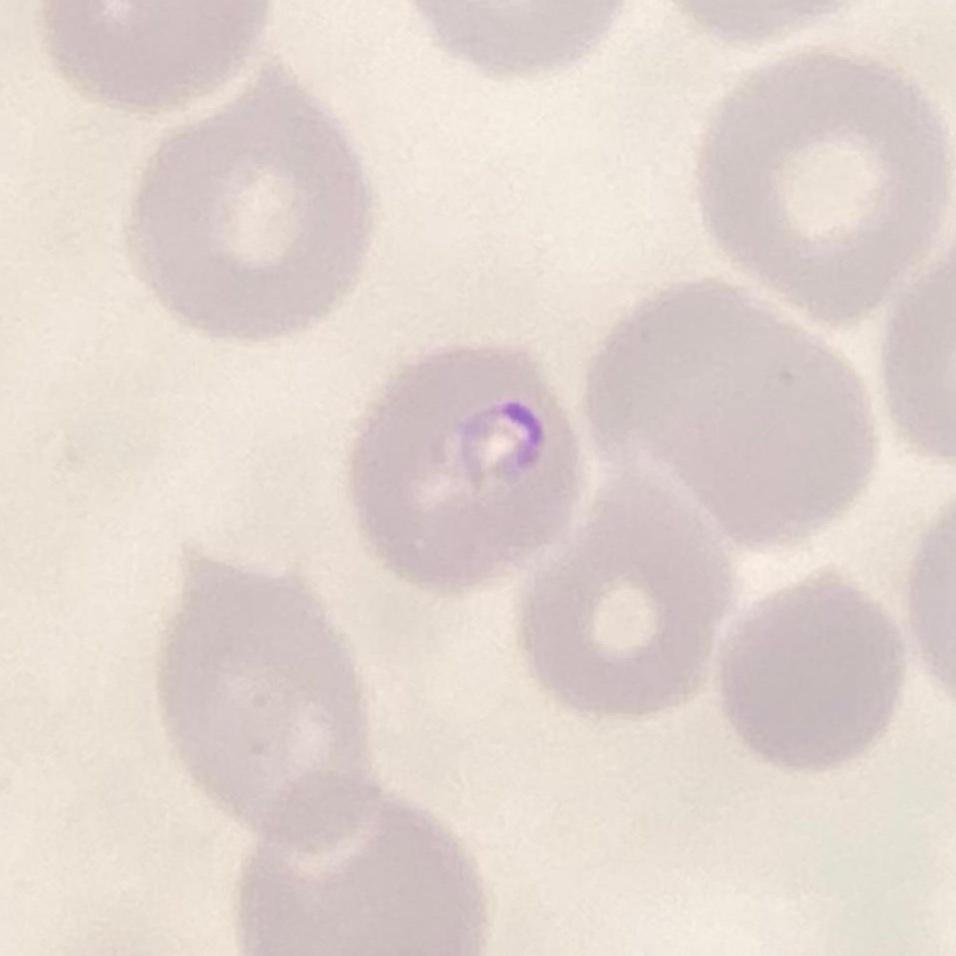Infected: (342, 333, 572, 591)
Uninfected: (585, 276, 876, 546), (152, 541, 384, 855), (688, 46, 938, 314), (128, 76, 372, 343), (520, 451, 722, 716), (233, 768, 481, 956), (712, 566, 909, 775)
